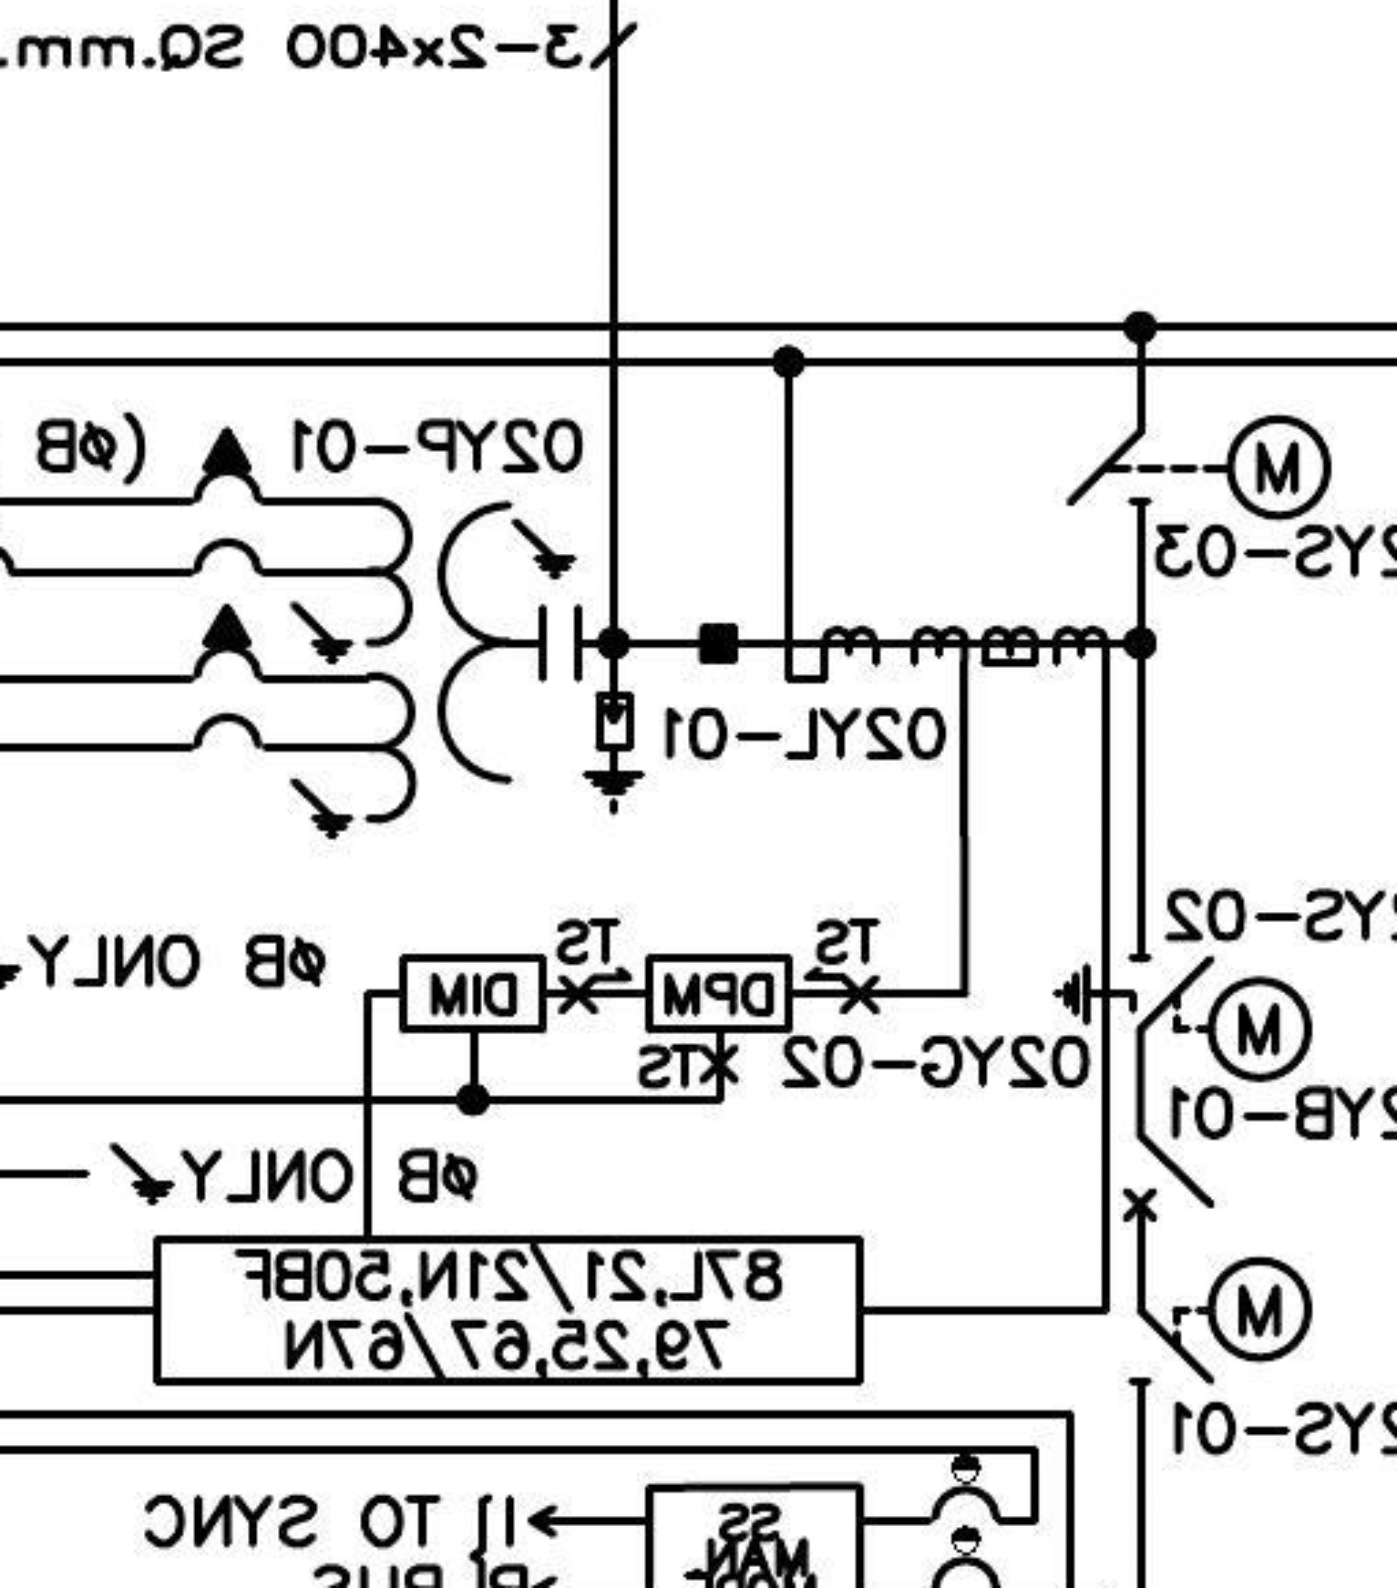115_1way_ds_w_motor: (1064, 412, 1334, 523), (1127, 1254, 1316, 1385)
115_3ways_ds_w_motor: (1050, 952, 1315, 1086)
115_breaker: (1122, 1132, 1216, 1222)
115_cvt_1p: (186, 424, 584, 843)
115_la: (582, 690, 647, 817)
DIM: (398, 953, 548, 1034)
DPM: (645, 953, 794, 1033)
